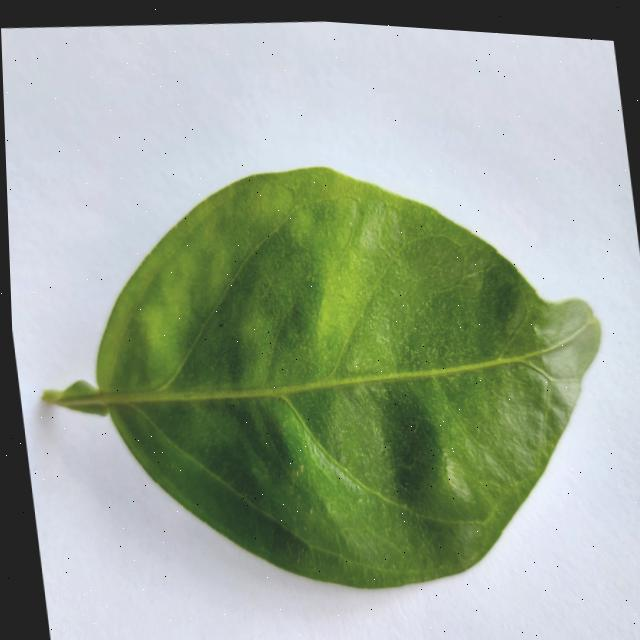greening: (43, 167, 600, 587)
